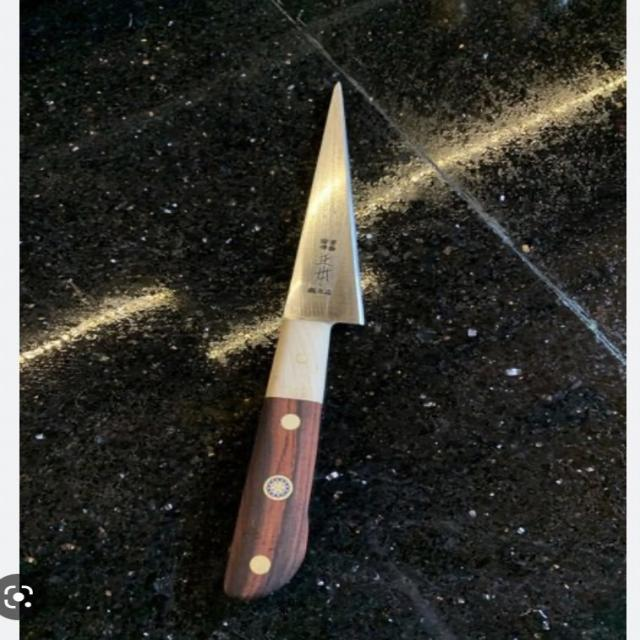Knife: (177, 73, 444, 611)
